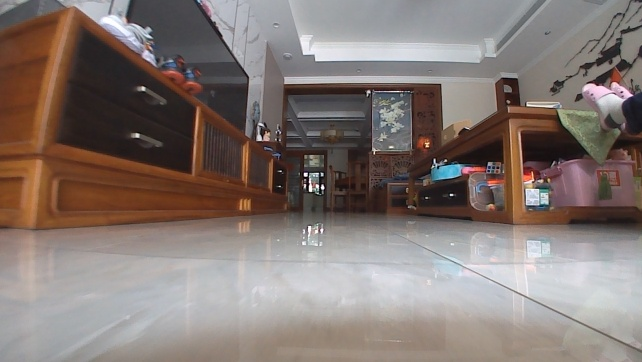TV_stand: (0, 0, 292, 229)
dining_table: (322, 155, 371, 210)
slipper: (581, 80, 622, 134)
tea_table: (402, 102, 641, 230)
